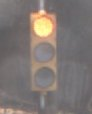Red: (22, 9, 70, 98)
